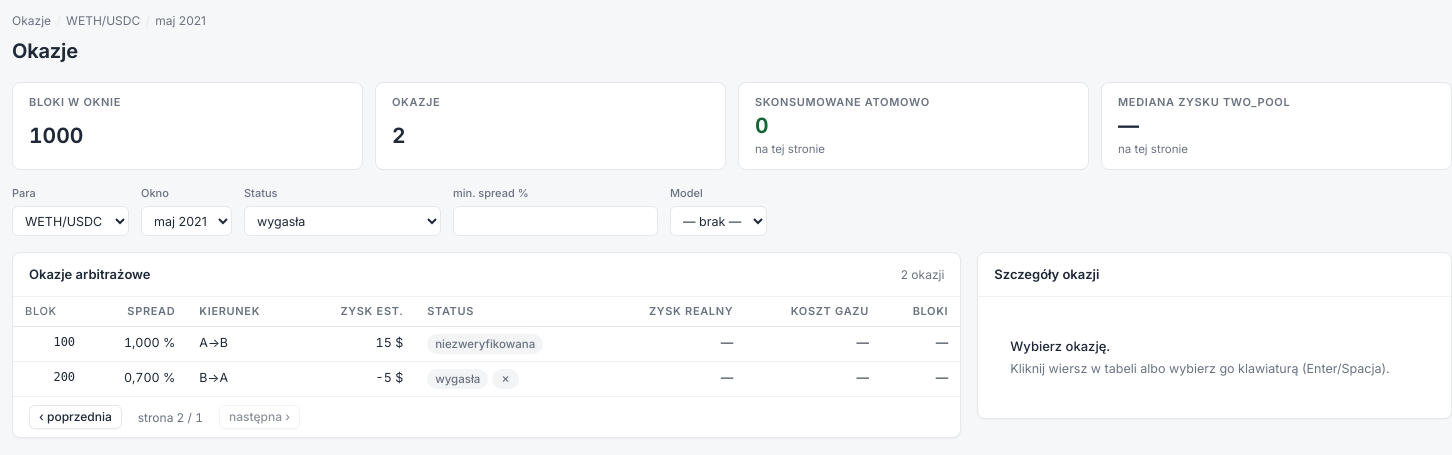
Test: zmiana pary/okna zeruje filtry, stronę i wybraną okazję poprzedniej listy
Step 1. Click the text "100" → {"x": 50, "y": 345}, box [13, 327, 87, 362]
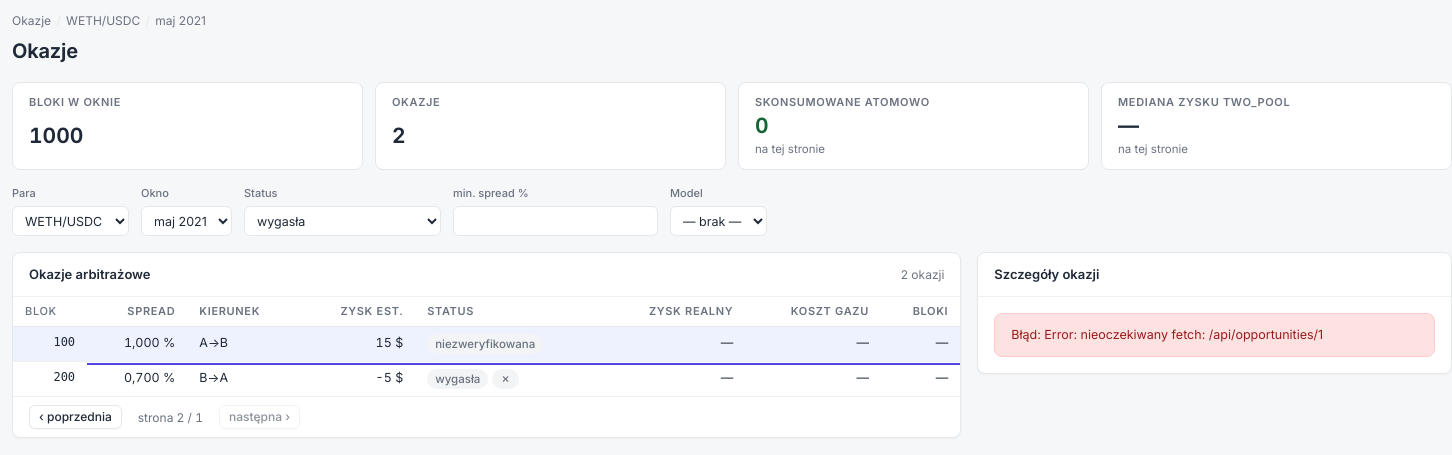
Expected: the text "Wybierz okazję." is gone
Step 2. Select "WBTC/WETH" in the dropdown labelled "Para" → {"x": 70, "y": 221}, box [12, 206, 129, 236]
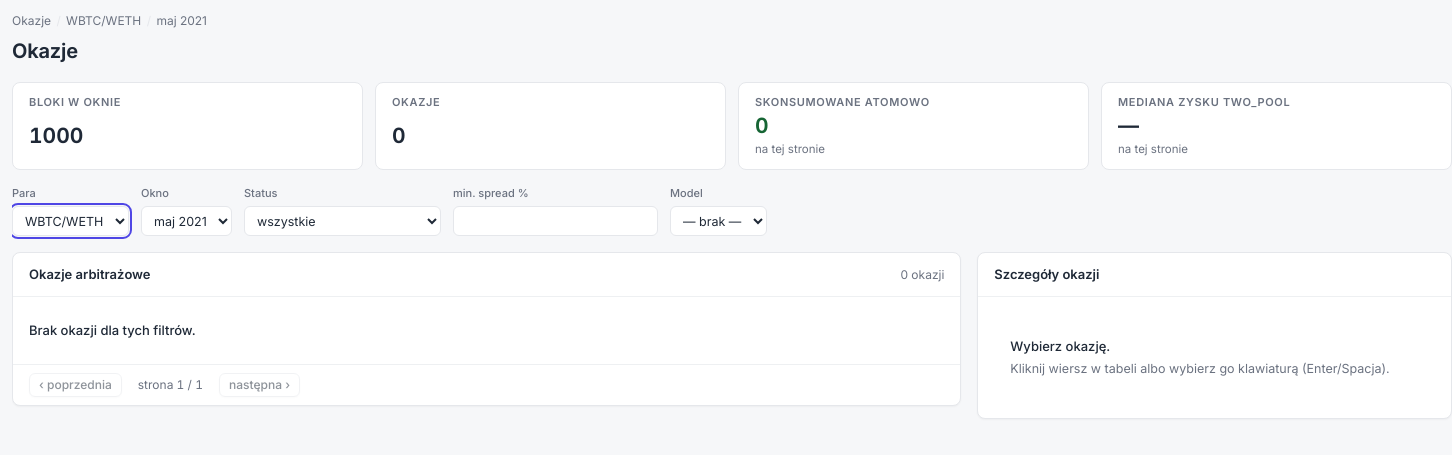
Expected: the text "Wybierz okazję." is shown, [1010, 337, 1110, 356]
